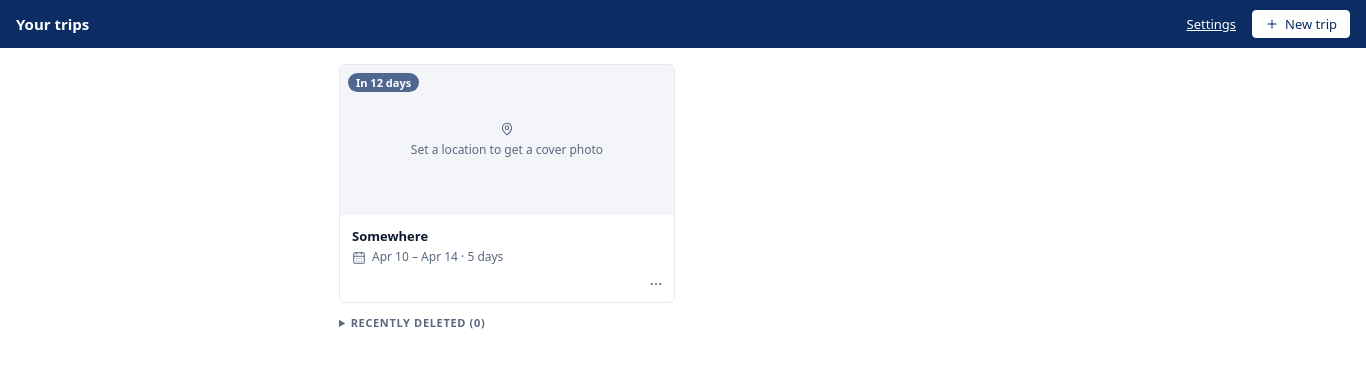
Test: Your trips: change cover photo › is offered only for trips with a location
Click the button named "Actions for Somewhere" at [656, 284], box left=644, top=272, right=668, bottom=296
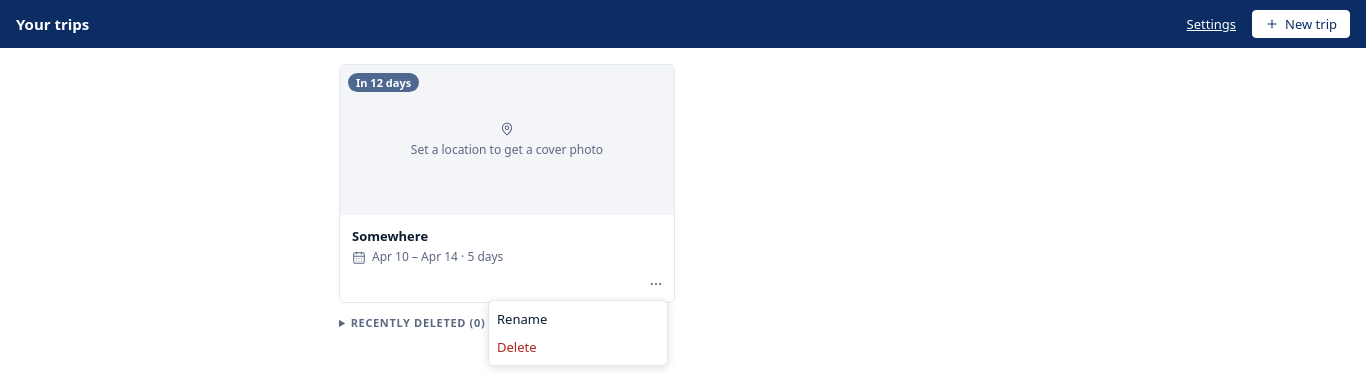
Now the menu item with aria-label "Rename Somewhere" is shown, box left=497, top=310, right=547, bottom=328
